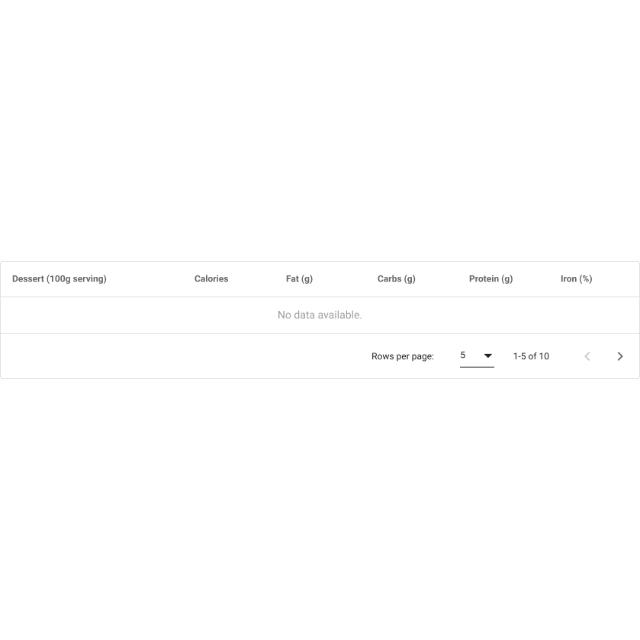VDataTable: (0, 261, 640, 379)
